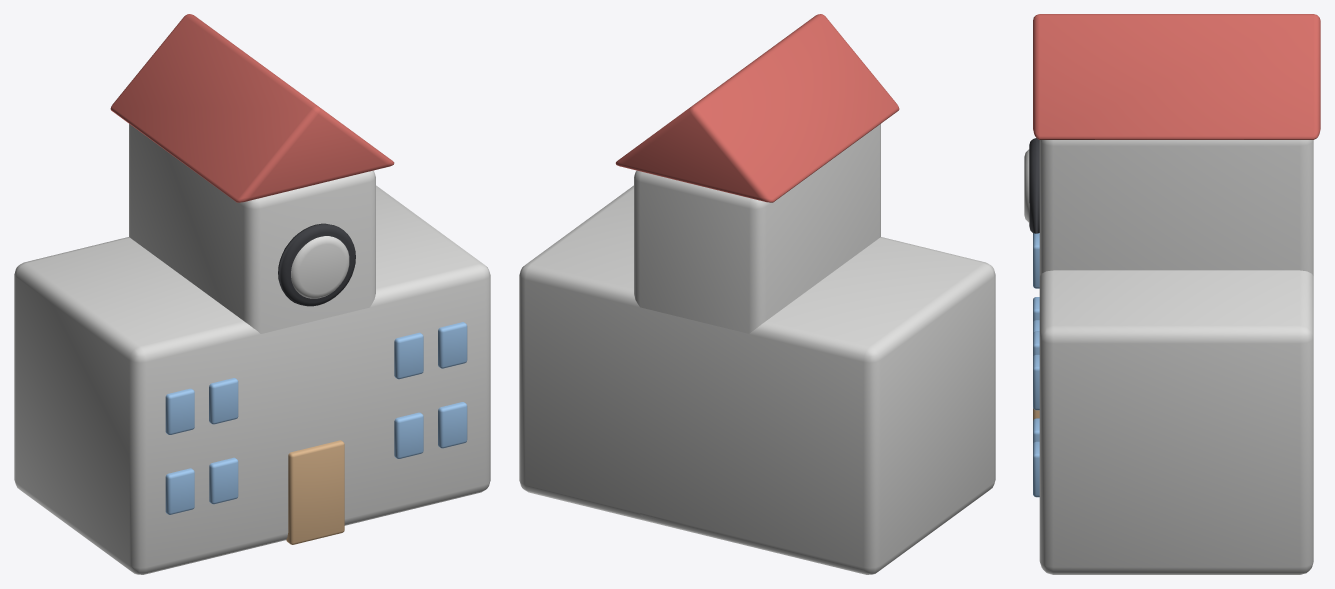
The model's file is career--kosen.glb.
3 renders of one model, left to right at view 1: azimuth 30°, elevation 25°; view 2: azimuth 150°, elevation 25°; view 3: azimuth 270°, elevation 25°, orthographic. The views are drawn at different scales.
Visible parts, largest first — view 1: career--kosen; view 2: career--kosen; view 3: career--kosen.
Boxes of the visible parts, box(x1,y1,x2,y2) form: career--kosen: box(14, 14, 490, 574); career--kosen: box(519, 14, 995, 574); career--kosen: box(1024, 14, 1320, 574).
Bounding box in the file's own units: 0.6602 × 0.7559 × 0.4326.
